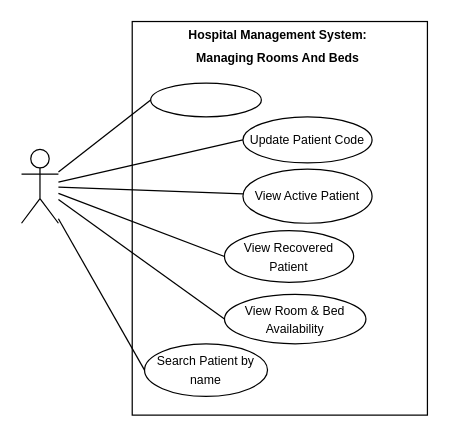
Some shapes in this 449 by 437 pixel diagram are drawn without their labels. Each missing label, with the centre of its shape:
"Admit Patient" goes at pixel 205 99.
"Staff" goes at pixel 39 185.
